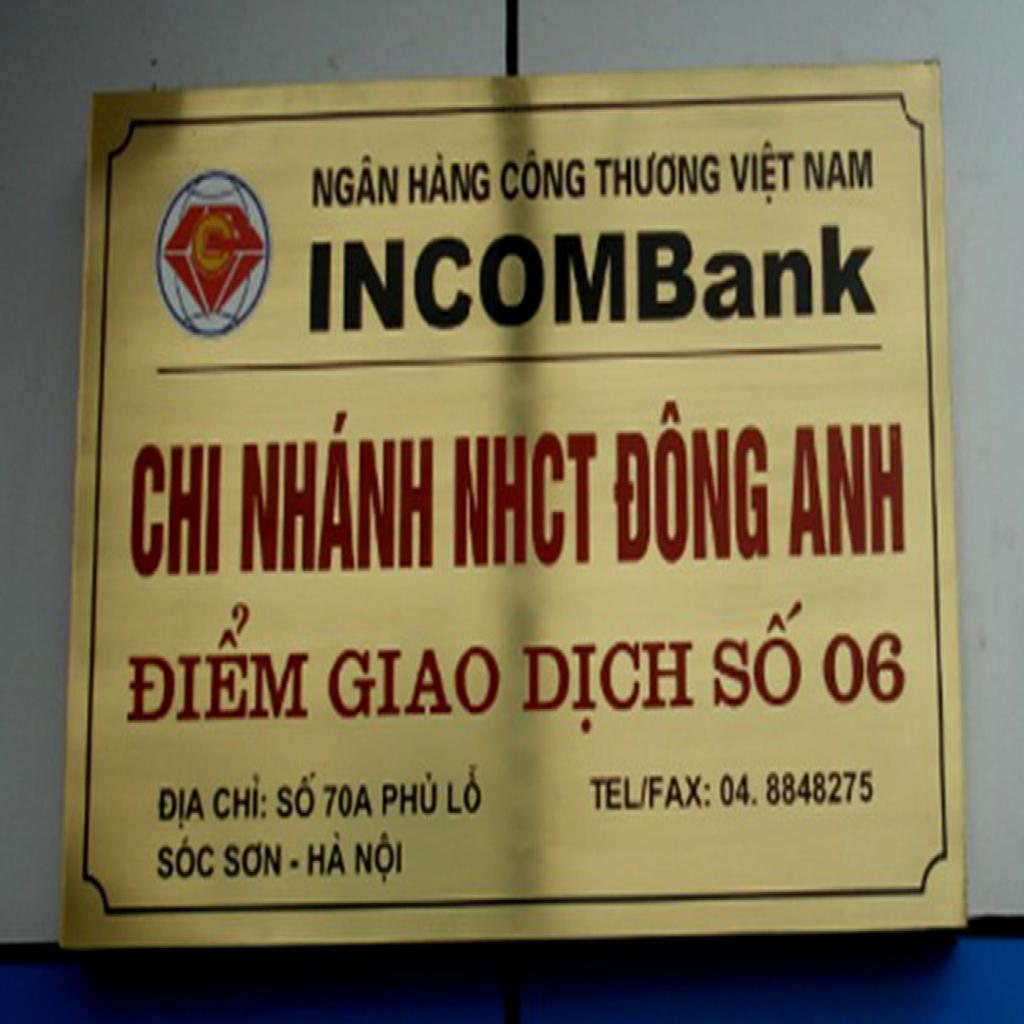text: (307, 224, 881, 335), (240, 405, 435, 576), (610, 399, 770, 566), (126, 601, 311, 726), (453, 430, 598, 574), (522, 639, 696, 739), (786, 420, 906, 558), (326, 644, 504, 723), (130, 439, 223, 580), (712, 599, 805, 714), (820, 630, 907, 709), (594, 149, 724, 199), (500, 144, 588, 205), (312, 152, 400, 210), (408, 149, 492, 206), (728, 138, 797, 206), (803, 149, 876, 192), (381, 768, 439, 819), (354, 830, 406, 886), (212, 771, 268, 822), (156, 835, 216, 881), (222, 840, 284, 882), (649, 772, 713, 812), (156, 787, 210, 833), (588, 774, 650, 813), (274, 771, 320, 822), (446, 762, 484, 819), (321, 782, 376, 821), (306, 829, 348, 878)
